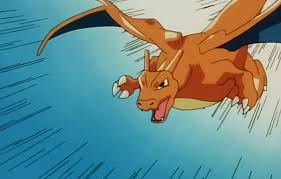charizard: (33, 1, 281, 123)
